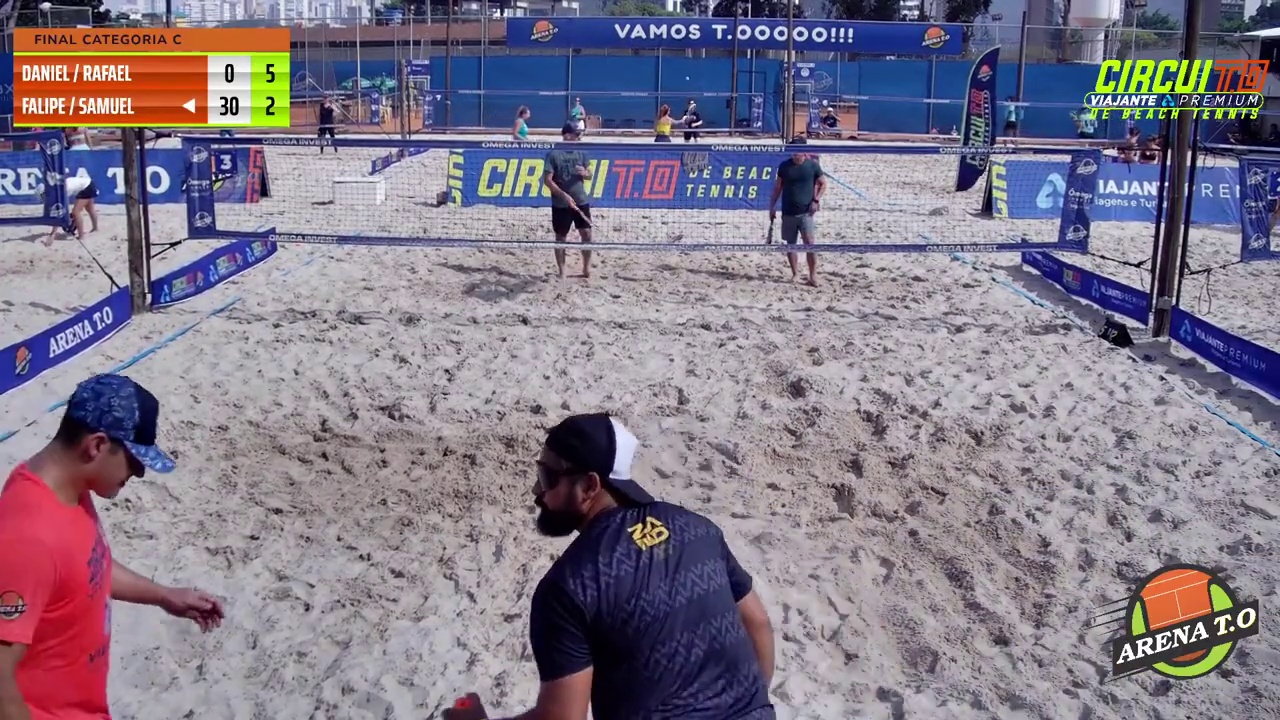court_line: (602, 0, 801, 373)
